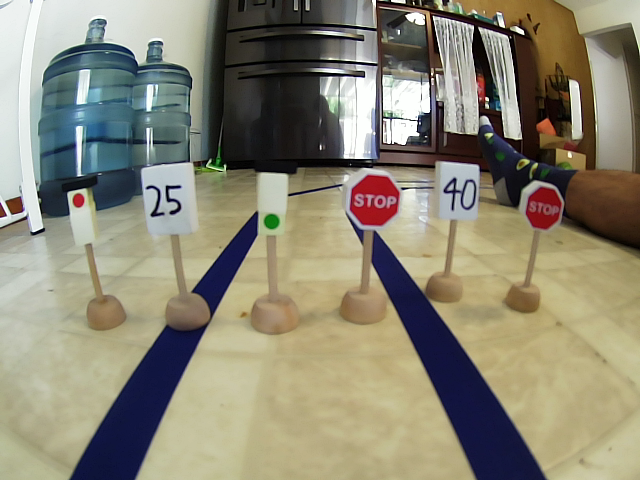25: (138, 161, 203, 237)
40: (432, 152, 483, 226)
green: (248, 157, 303, 240)
red: (57, 174, 112, 251)
stop: (335, 162, 409, 237), (519, 174, 569, 239)
